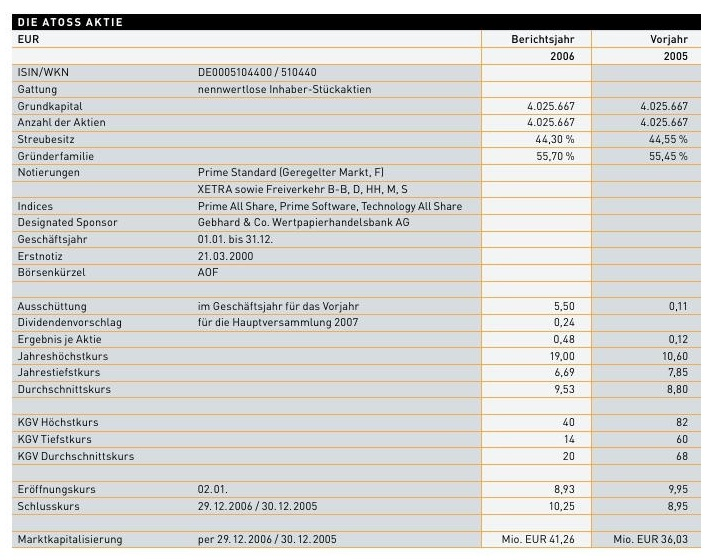table: (0, 0, 713, 560)
